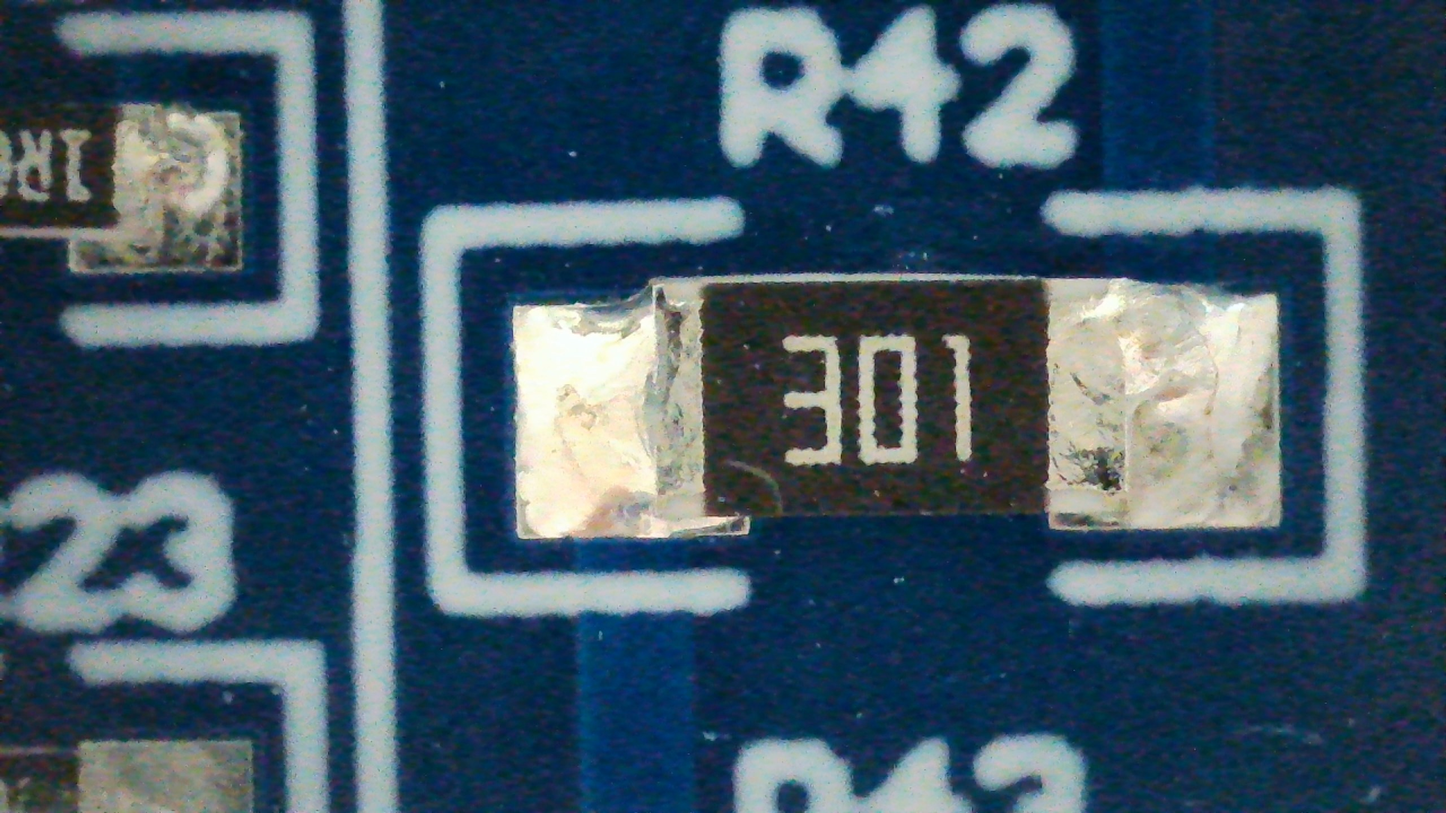OK: (513, 279, 1280, 540)
